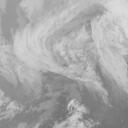cyclone: (22, 33, 91, 97)
